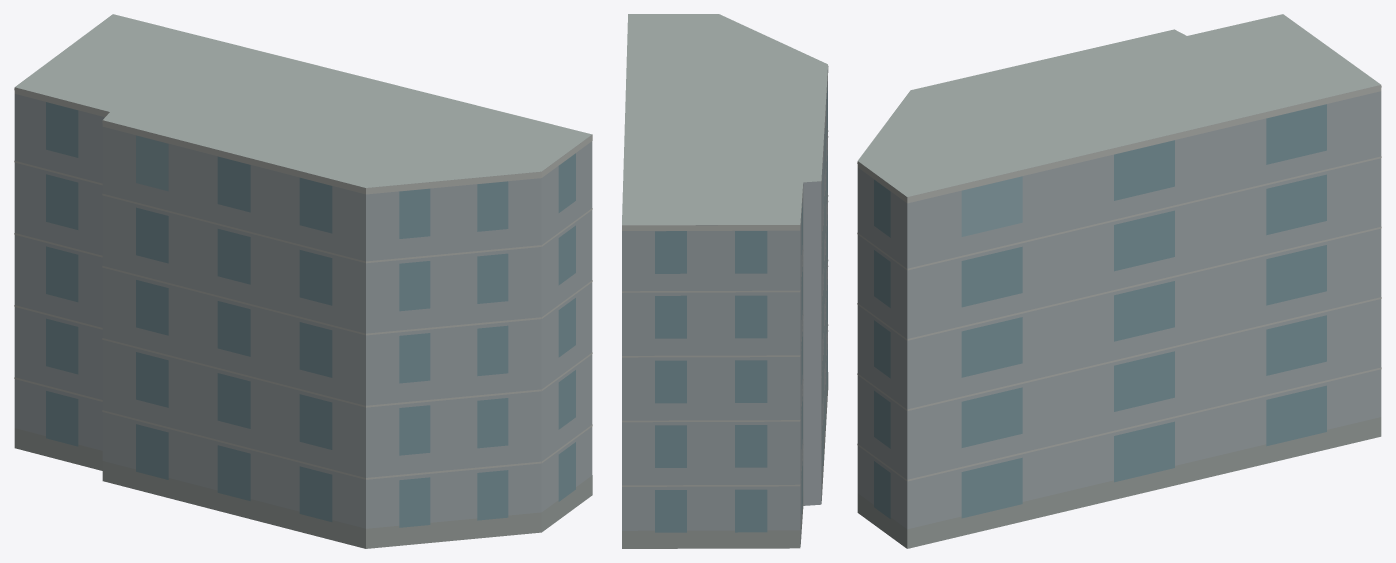
The model's file is survey-upis-32677052.glb.
The picture shows the model from 3 angles, left to right: view 1: azimuth 30°, elevation 25°; view 2: azimuth 150°, elevation 25°; view 3: azimuth 270°, elevation 25°; orthographic projection. The views are drawn at different scales.
Parts seen in each view (by area): view 1: survey-upis-32677052.tmp; view 2: survey-upis-32677052.tmp; view 3: survey-upis-32677052.tmp.
Part boxes in pixels (x1,y1,x2,y2): survey-upis-32677052.tmp: [14, 14, 592, 548]; survey-upis-32677052.tmp: [622, 14, 828, 548]; survey-upis-32677052.tmp: [857, 14, 1381, 548].
Bounding box in the file's own units: 15.21 × 13.6 × 18.38.
